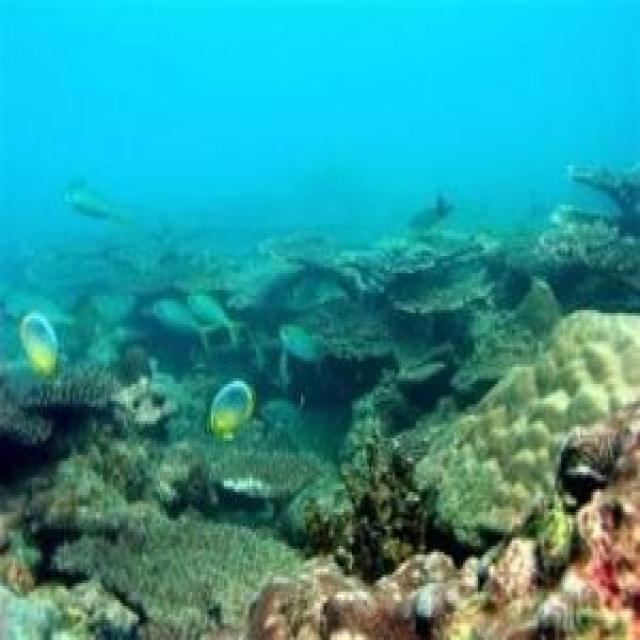bleached coral: (414, 313, 640, 532), (459, 512, 593, 640), (0, 558, 173, 640), (262, 563, 429, 640), (111, 375, 179, 430), (215, 466, 311, 503)
healthy coral: (126, 230, 326, 358), (339, 228, 489, 356), (512, 168, 640, 313), (0, 313, 107, 424)
